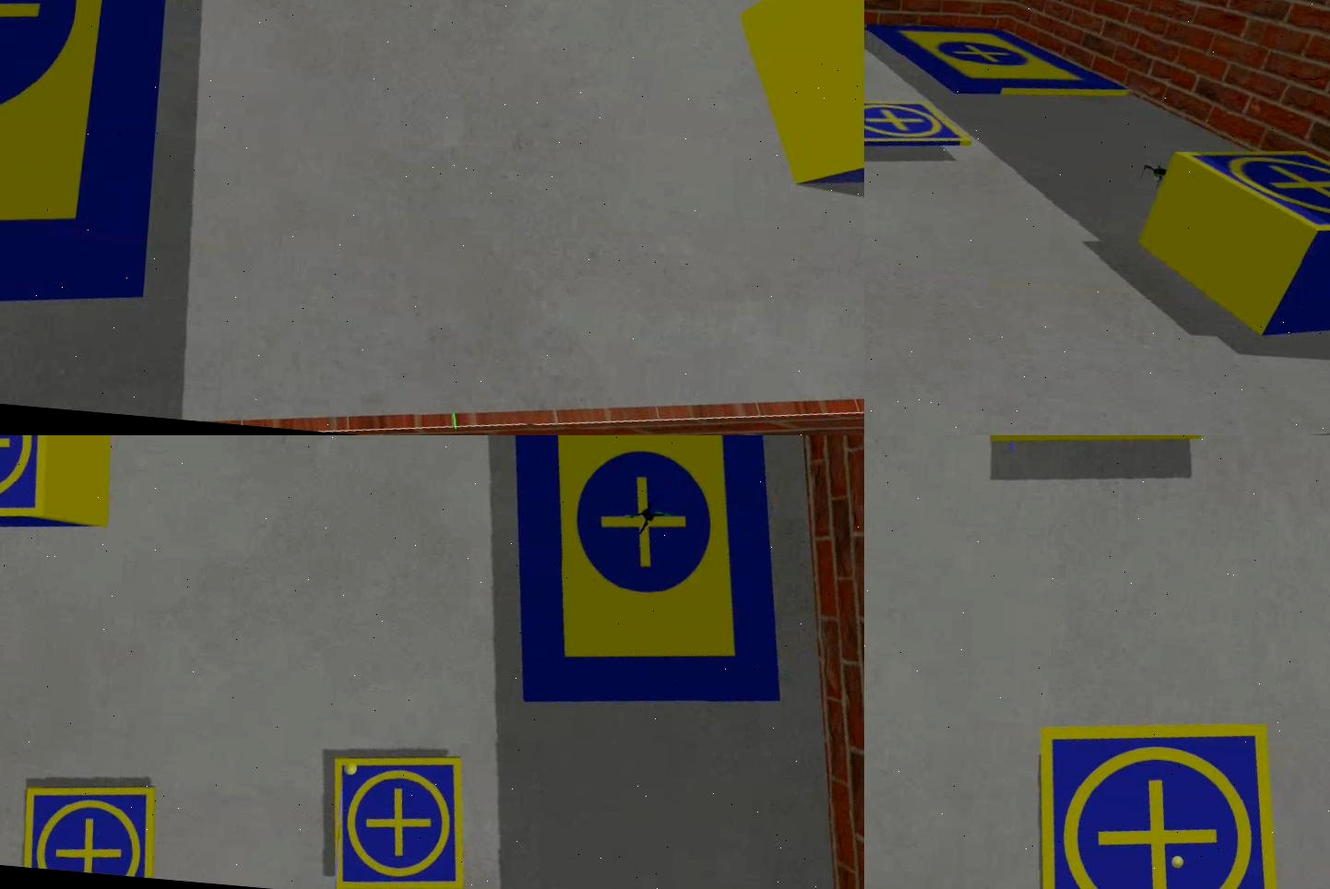large_base: (480, 435, 809, 724), (1, 1, 190, 350), (865, 14, 1137, 110)
small_base: (1020, 705, 1305, 889), (319, 746, 473, 889), (1167, 143, 1330, 247), (20, 772, 159, 880), (865, 96, 973, 160), (988, 435, 1207, 460)
